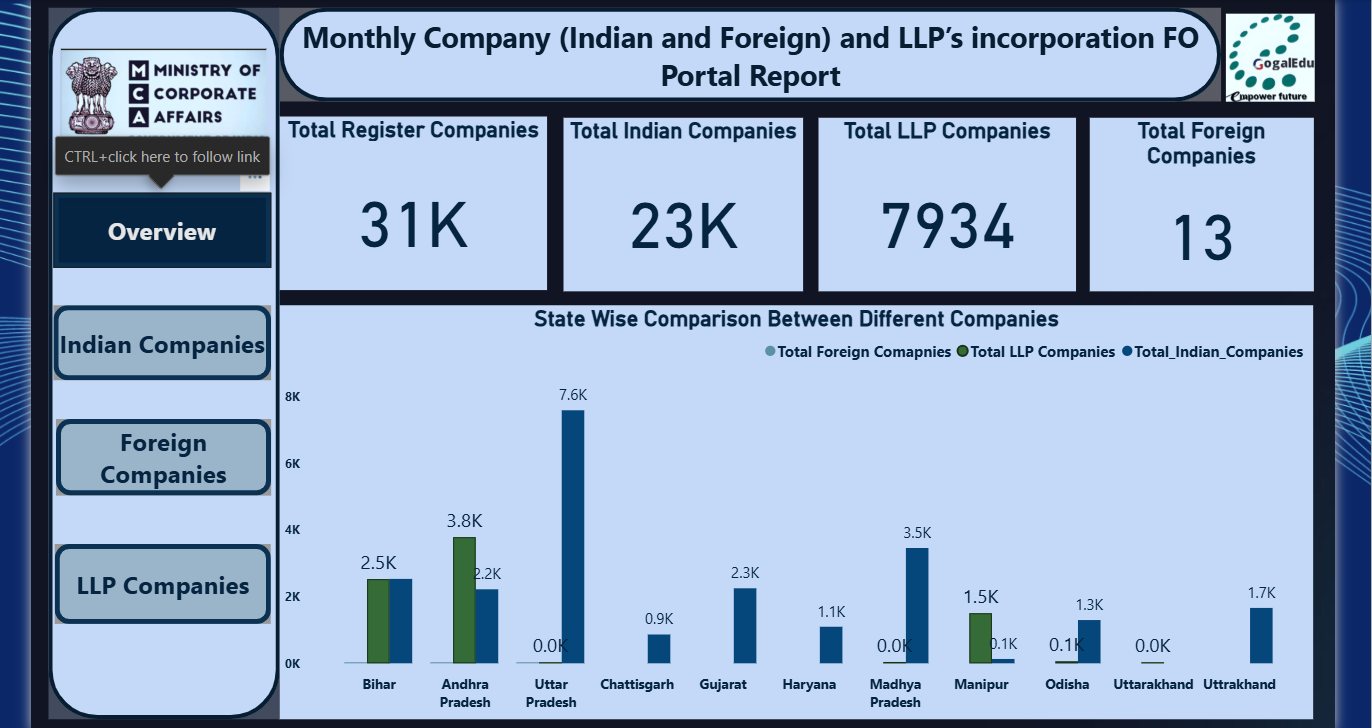

What the dashboard file says about the page in this screenshot:
{"tool":"powerbi","page":{"name":"OVERVIEW","canvas":[1280,720],"ordinal":0},"visuals":[{"type":"shape","box":[244.2,8.6,923.9,92],"z":0},{"type":"shape","box":[17.2,8.6,227,698.2],"z":2000},{"type":"actionButton","box":[24.5,190.2,211,73.6],"z":3000},{"type":"actionButton","box":[23.3,300.6,212.3,73.6],"z":4000},{"type":"actionButton","box":[24.5,412.3,211,74.8],"z":5000},{"type":"actionButton","box":[23.3,535,212.3,78.5],"z":6000},{"type":"card","title":"Total Indian Companies","fields":{"Values":["Table 1 (Indian Companies).Total_Indian_Companies"]},"box":[516.6,103.1,241.7,185.3],"z":7000},{"type":"card","title":"Total Register Companies","fields":{"Values":["Foreign Companies.total"]},"box":[244.2,103.1,262.6,185.3],"z":8000},{"type":"card","title":"Total Foreign Companies","fields":{"Values":["Foreign Companies.Total Foreign Comapnies"]},"box":[1028.2,103.1,230.7,184.1],"z":9000},{"type":"card","title":"Total LLP Companies","fields":{"Values":["LLP Companies.Total LLP Companies"]},"box":[766.9,103.1,252.8,185.3],"z":10000},{"type":"clusteredColumnChart","title":"State Wise Comparison Between Different Companies","fields":{"Category":["Dim_State.State"],"Y":["Foreign Companies.Total Foreign Comapnies","LLP Companies.Total LLP Companies","Table 1 (Indian Companies).Total_Indian_Companies"]},"box":[244.2,300.6,1014.7,406.1],"z":11000},{"type":"image","box":[24.5,0,211,201.2],"z":12000},{"type":"image","box":[1168.1,3.7,90.8,103.1],"z":13000}]}

Visuals, with their boxes on the page's 1280x720 design canvas (x1, y1, x2, y2). These are canvas units, not pixel positions in the 1372x728 screenshot, which may show the page scaled, cropped or inside an application window:
shape: (244,9,1168,101)
shape: (17,9,244,707)
actionButton: (24,190,236,264)
actionButton: (23,301,236,374)
actionButton: (24,412,236,487)
actionButton: (23,535,236,614)
"Total Indian Companies" card: (517,103,758,288)
"Total Register Companies" card: (244,103,507,288)
"Total Foreign Companies" card: (1028,103,1259,287)
"Total LLP Companies" card: (767,103,1020,288)
"State Wise Comparison Between Different Companies" clusteredColumnChart: (244,301,1259,707)
image: (24,0,236,201)
image: (1168,4,1259,107)
